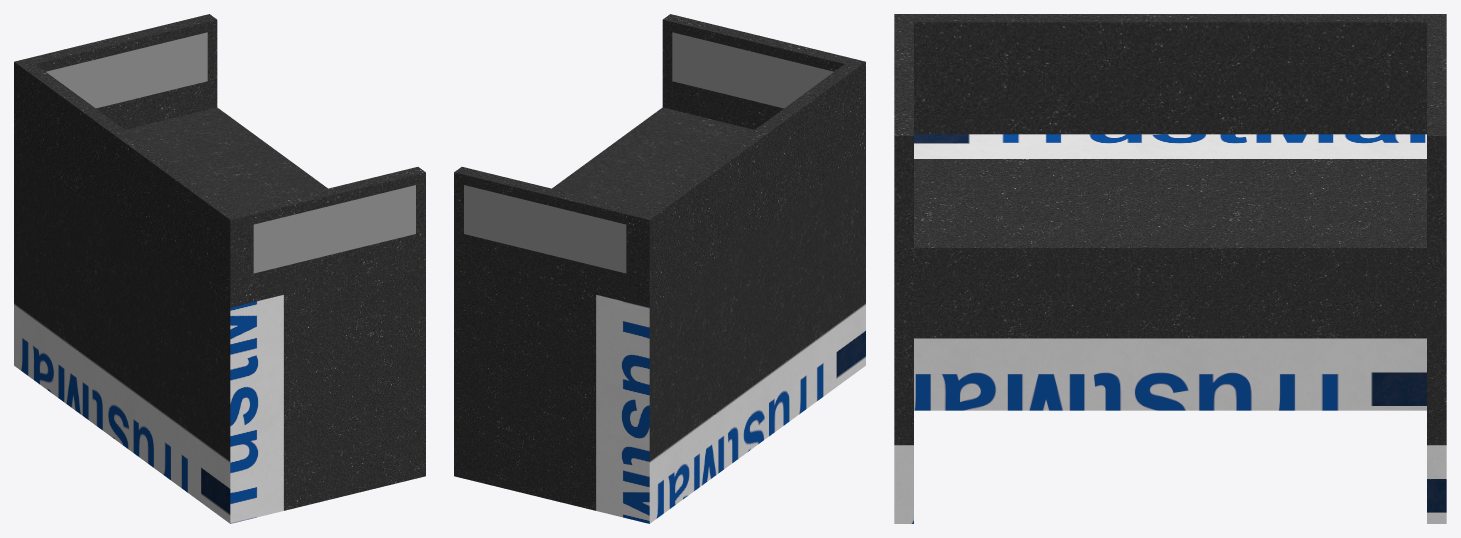
File: Table.fbx
The picture shows the model from 3 angles, left to right: view 1: azimuth 30°, elevation 25°; view 2: azimuth 150°, elevation 25°; view 3: azimuth 270°, elevation 25°; orthographic projection. The views are drawn at different scales.
Parts seen in each view (by area): view 1: Table, Top_divider, Window; view 2: Table, Top_divider, Window; view 3: Table, Top_divider.
Boxes of the visible parts, box(x1,y1,x2,y2) form: Table: box(14, 107, 425, 523); Top_divider: box(14, 14, 425, 307); Window: box(46, 32, 415, 273); Table: box(454, 107, 865, 523); Top_divider: box(454, 14, 865, 307); Window: box(464, 32, 833, 273); Table: box(894, 134, 1446, 523); Top_divider: box(894, 14, 1446, 247).
Size of the model in its own units: 74.91 by 111 by 144.
